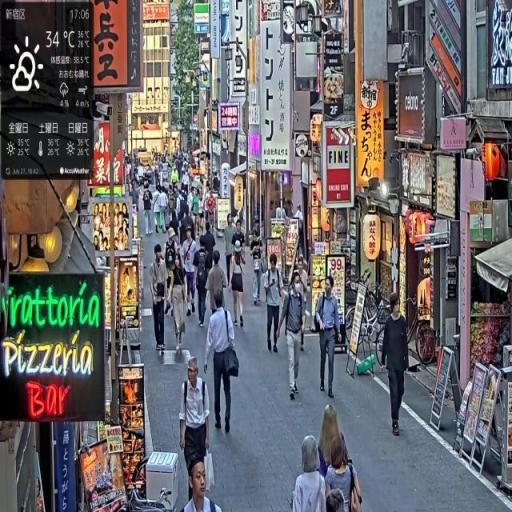person: (205, 292, 239, 439), (180, 356, 212, 493), (383, 296, 412, 440), (277, 271, 308, 404), (315, 275, 344, 400), (323, 434, 364, 512), (293, 435, 329, 512), (265, 252, 286, 357), (184, 457, 224, 512), (151, 244, 169, 359), (169, 255, 189, 358), (205, 252, 227, 327), (183, 228, 200, 318), (231, 247, 247, 329), (252, 229, 268, 309), (223, 211, 236, 289)
